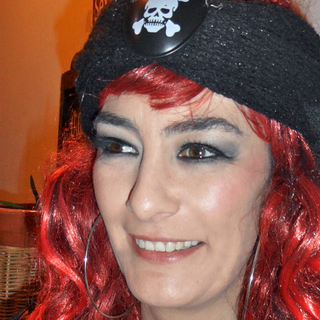eye: (176, 140, 230, 167), (97, 136, 143, 162)
